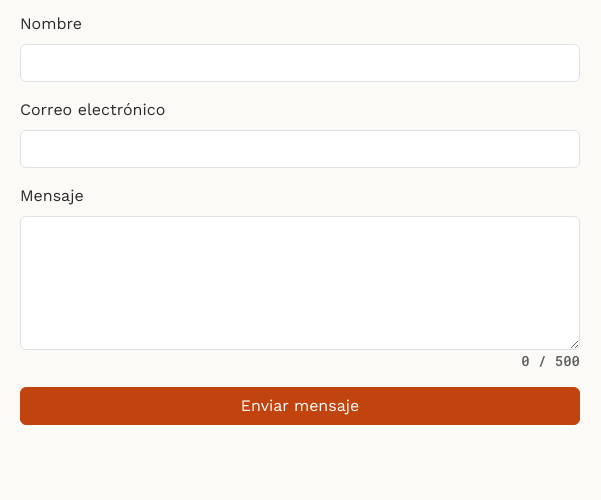
Scenario: <FormularioContacto /> › muestra el mensaje de éxito cuando los datos son válidos
Type "Ana Pérez" into the field labelled "Nombre".
click(300, 63); type("Ana Pérez")  # box [20, 44, 580, 82]
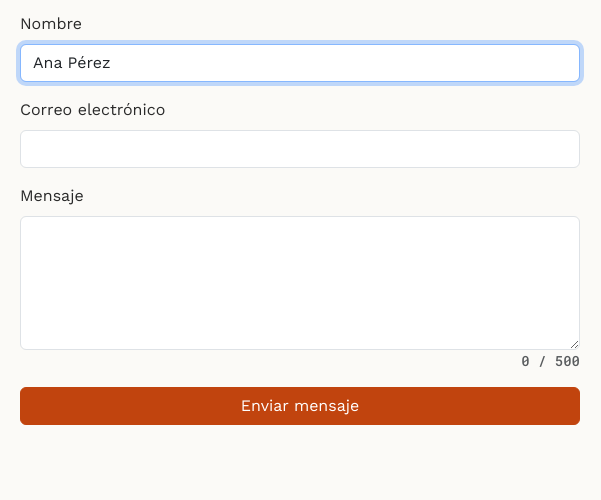
Type "ana@test.cl" into the field labelled "Correo electrónico".
click(300, 149); type("ana@test.cl")  # box [20, 130, 580, 168]
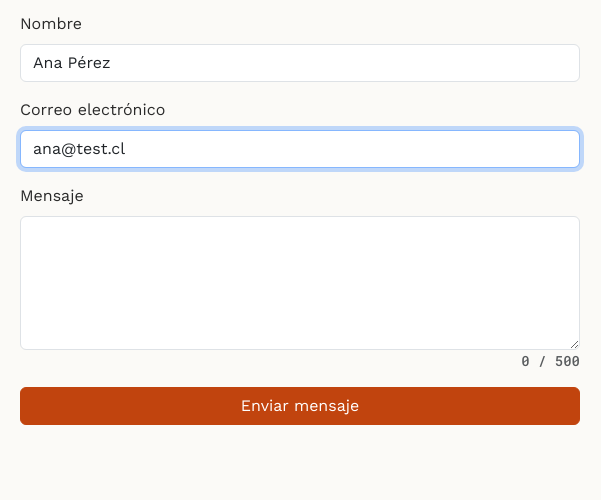
Type "Quisiera cotizar diez sacos de cemento para esta semana." into the text box labelled "Mensaje".
click(300, 283); type("Quisiera cotizar diez sacos de cemento para esta semana.")  # box [20, 216, 580, 350]
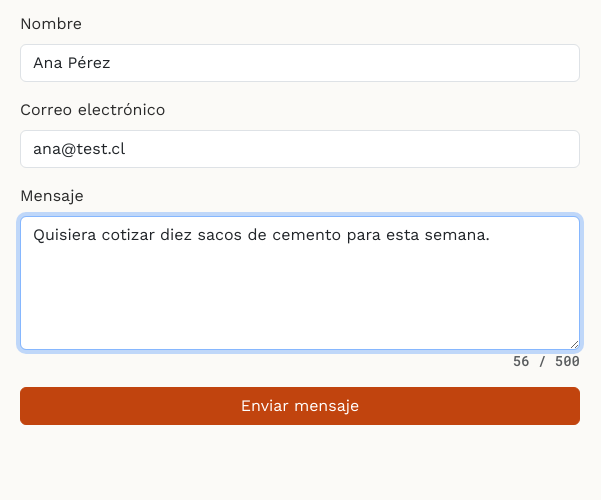
Click the button "Enviar mensaje".
click(300, 406)  # box [20, 387, 580, 425]
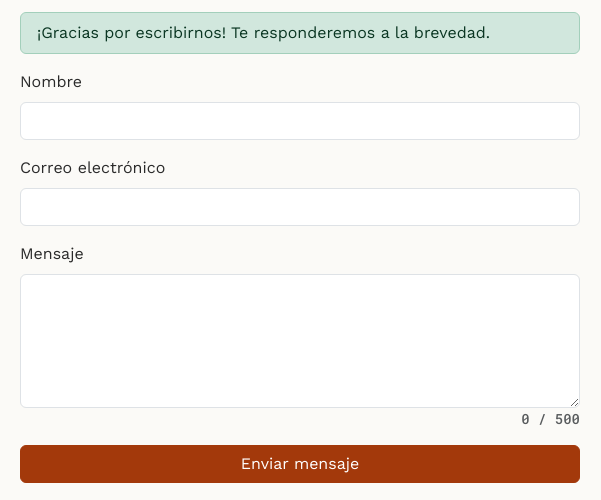
Expected: the text "¡Gracias por escribirnos! Te responderemos a la brevedad." is shown, [20, 12, 580, 54]
